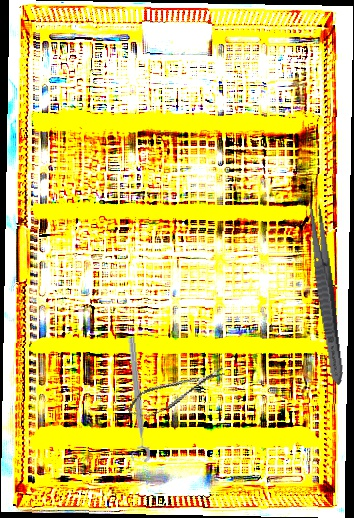Dressing Forceps: (302, 195, 349, 387)
Fixation Ring: (118, 336, 151, 464)
Micro Scissor: (123, 361, 230, 423)
